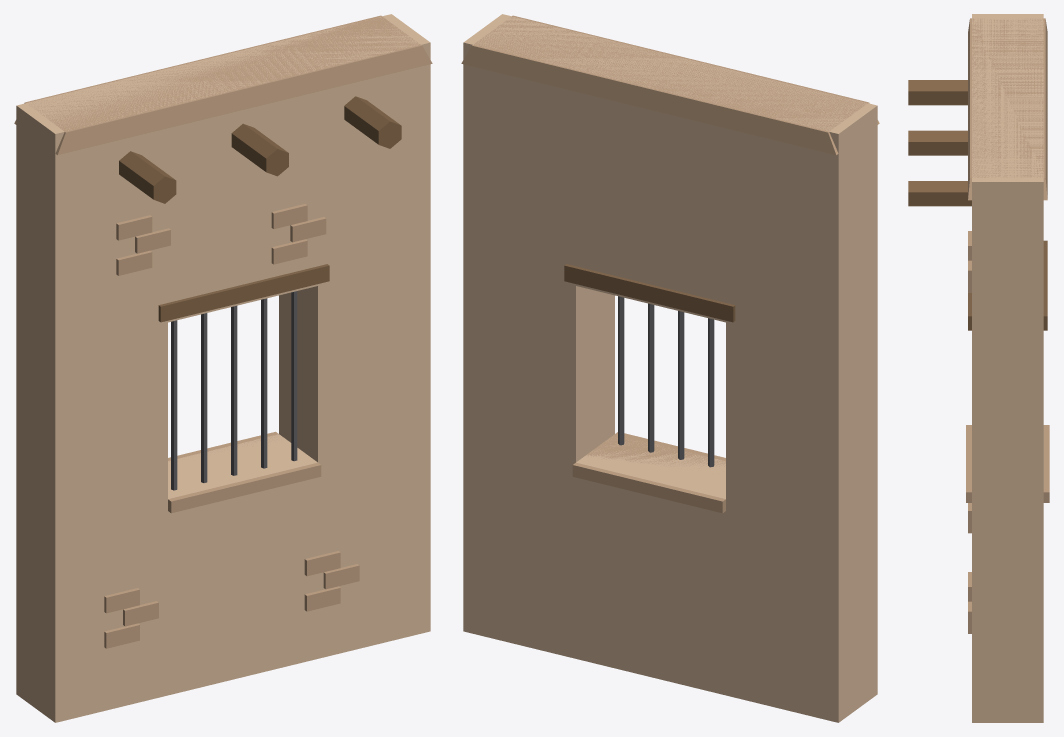
The model's file is SM_Wall_Adobe_Window.glb.
3 views of the same model, side by side, from view 1: azimuth 30°, elevation 25°; view 2: azimuth 150°, elevation 25°; view 3: azimuth 270°, elevation 25° (orthographic). The views are drawn at different scales.
Visible parts, largest first — view 1: SM_Wall_Adobe_Window; view 2: SM_Wall_Adobe_Window; view 3: SM_Wall_Adobe_Window.
Boxes of the visible parts, x1,y1,x2,y2 form: SM_Wall_Adobe_Window: [14, 14, 432, 722]; SM_Wall_Adobe_Window: [461, 14, 879, 722]; SM_Wall_Adobe_Window: [908, 14, 1049, 722].
Size of the model in its own units: 2 by 3 by 0.71.
